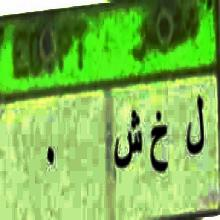0: (42, 129, 65, 176)
khaa: (149, 103, 171, 188)
laam: (182, 87, 206, 164)
sheen: (112, 110, 142, 175)
